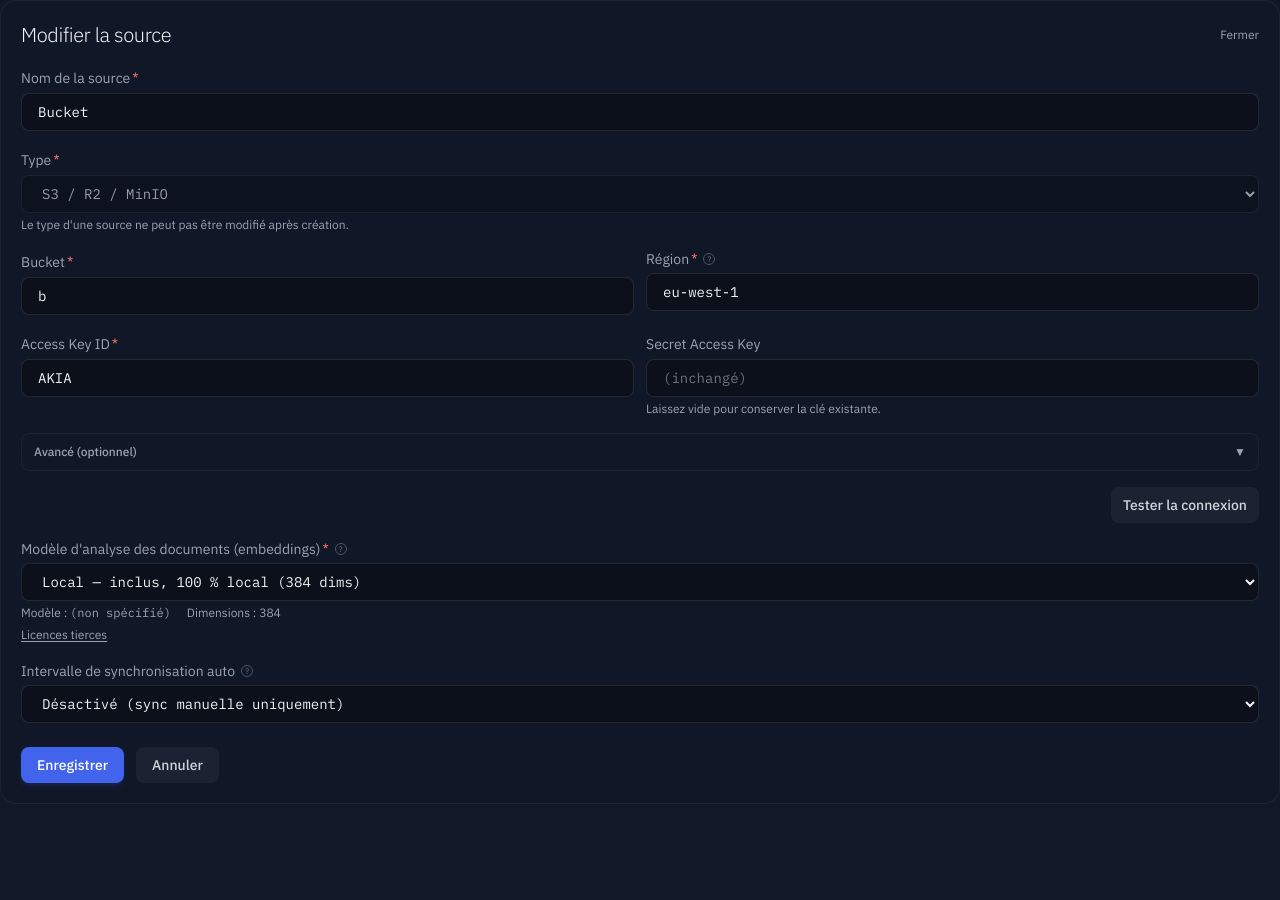
Test: SourceForm — collapsible "?" help › keeps the edit-mode constraints visible when editing an S3 source
The width and height of the screenshot is (1280, 900).
Check: the text "Le type d'une source ne peut pas être modifié après création." is shown, box [21,217,349,232]
Check: the text "Laissez vide pour conserver la clé existante." is shown, box [646,401,881,416]
Click the button named "Aide : Région" at (709, 259), box [703,253,715,265]
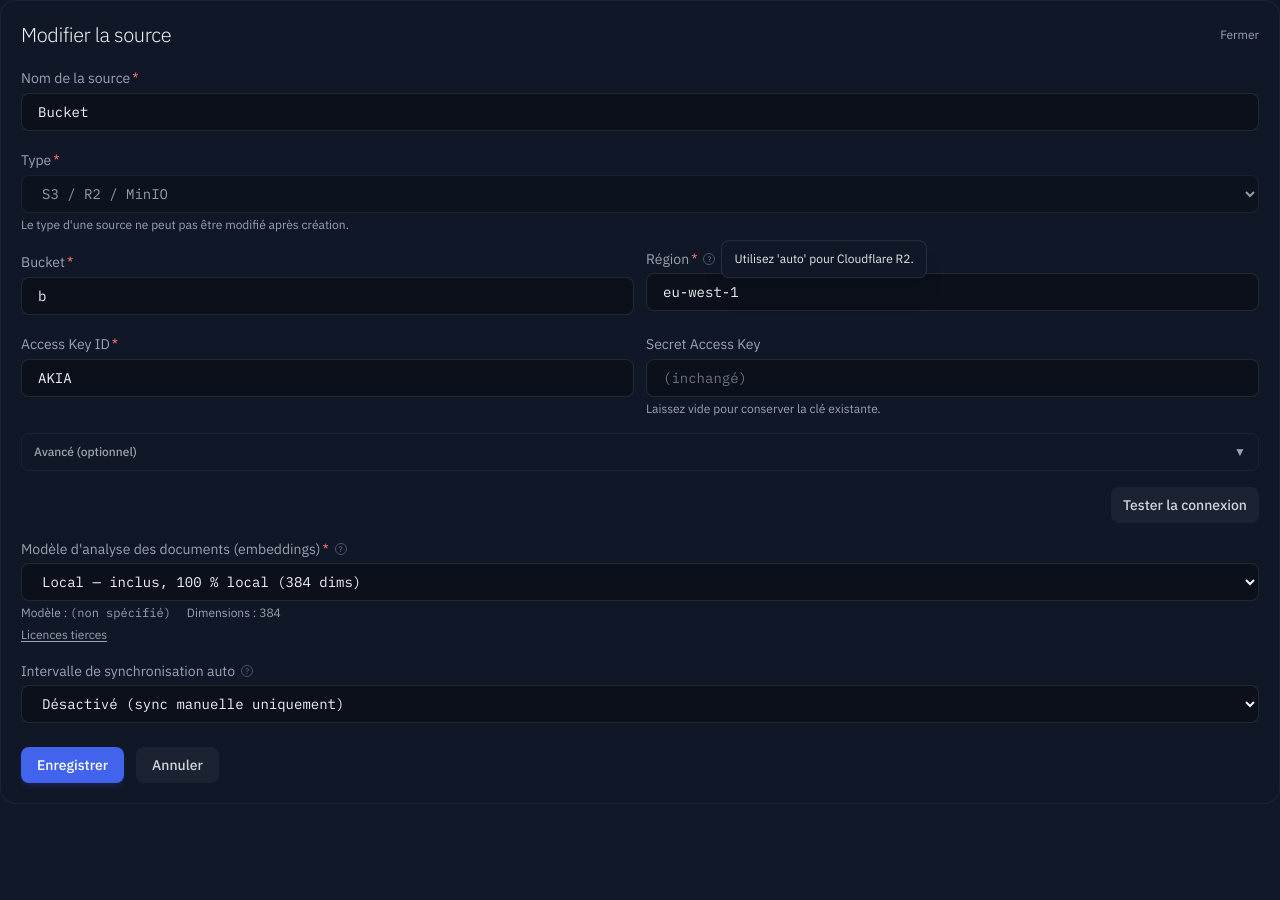
Check: the tooltip reads "Utilisez 'auto' pour Cloudflare R2.", box [734,251,914,266]
